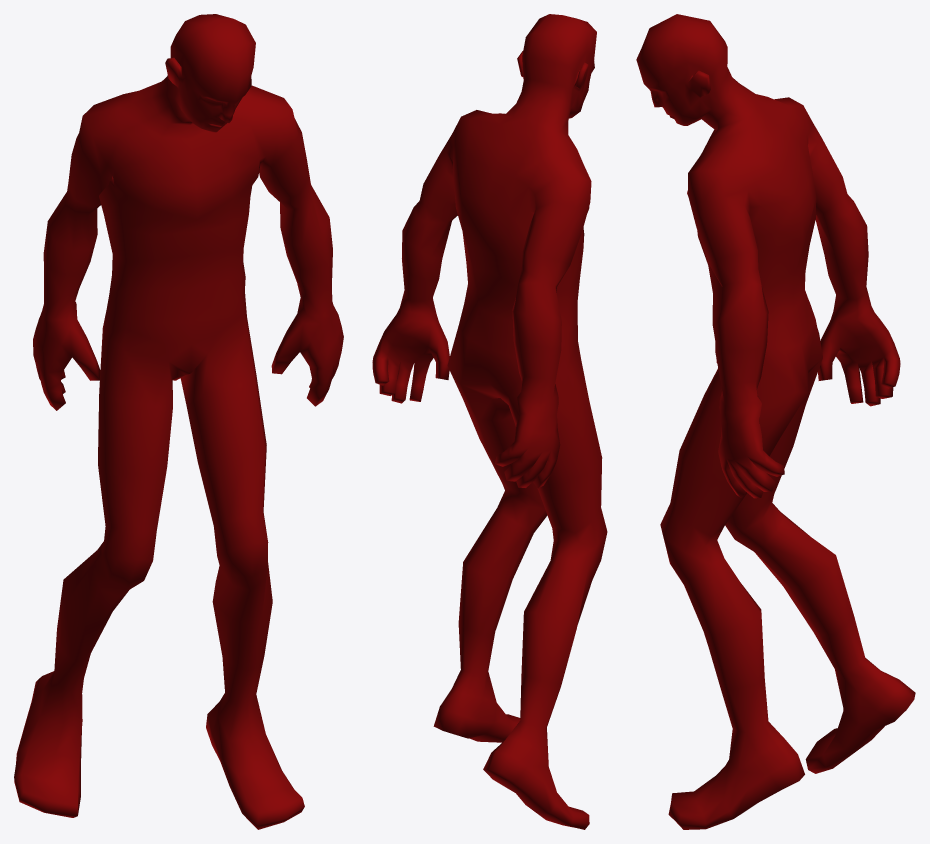
Rendered from attack_1.obj.
The picture shows the model from 3 angles, left to right: view 1: azimuth 30°, elevation 25°; view 2: azimuth 150°, elevation 25°; view 3: azimuth 270°, elevation 25°; orthographic projection. The views are drawn at different scales.
Parts seen in each view (by area): view 1: Low_Poly_Characte.000_Mesh.001; view 2: Low_Poly_Characte.000_Mesh.001; view 3: Low_Poly_Characte.000_Mesh.001.
Part boxes in pixels (x1,y1,x2,y2): Low_Poly_Characte.000_Mesh.001: (14,14,343,829); Low_Poly_Characte.000_Mesh.001: (372,14,607,829); Low_Poly_Characte.000_Mesh.001: (636,14,915,829).
Size of the model in its own units: 1.1 by 3.12 by 1.
